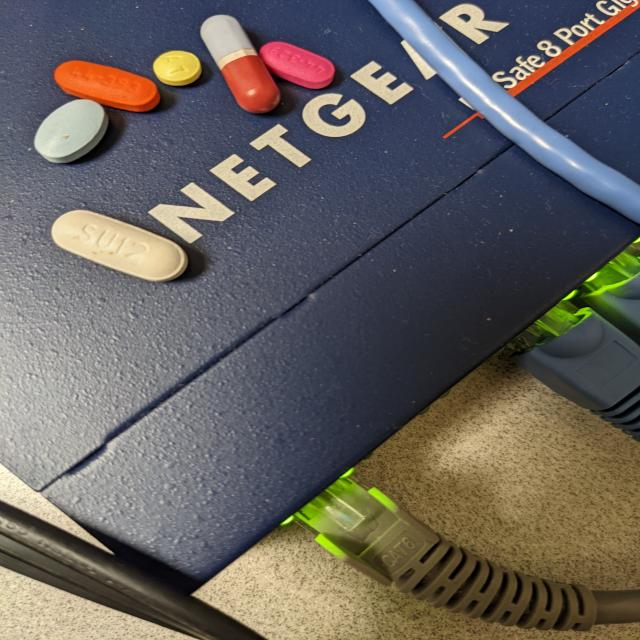non-organic waste: (48, 208, 191, 284), (199, 13, 282, 115), (51, 59, 161, 112), (32, 97, 110, 165), (257, 40, 335, 90), (151, 49, 203, 88)
